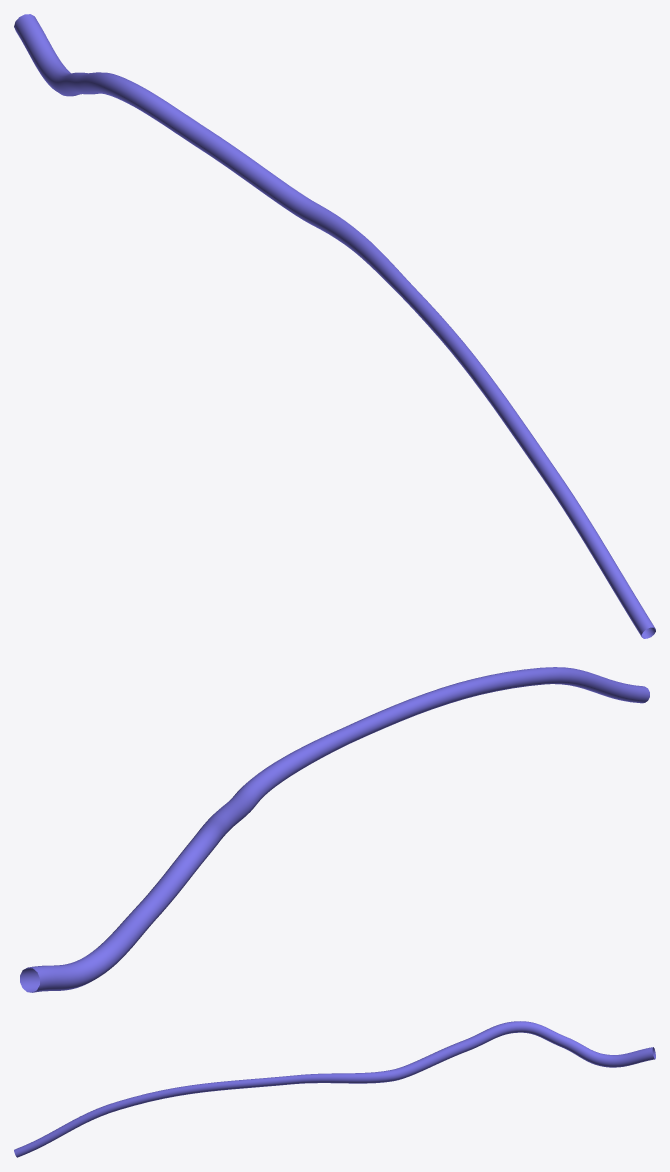
File: Medial_plantar_veins.r_BezierCurve.348.glb
The picture shows the model from 3 angles, top to bottom: view 1: azimuth 30°, elevation 25°; view 2: azimuth 150°, elevation 25°; view 3: azimuth 270°, elevation 25°; orthographic projection. The views are drawn at different scales.
Visible parts, largest first — view 1: Medial_plantar_veins.r_BezierCurve.348; view 2: Medial_plantar_veins.r_BezierCurve.348; view 3: Medial_plantar_veins.r_BezierCurve.348.
Boxes of the visible parts, x1,y1,x2,y2 form: Medial_plantar_veins.r_BezierCurve.348: [14, 14, 655, 638]; Medial_plantar_veins.r_BezierCurve.348: [20, 667, 649, 992]; Medial_plantar_veins.r_BezierCurve.348: [14, 1021, 655, 1157].
Bounding box in the file's own units: 0.00944 × 0.0209 × 0.0998.
